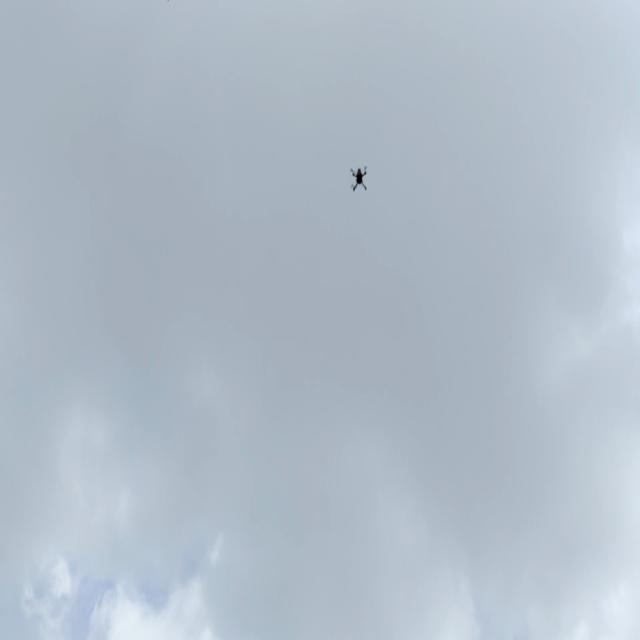drone: (346, 164, 368, 190)
